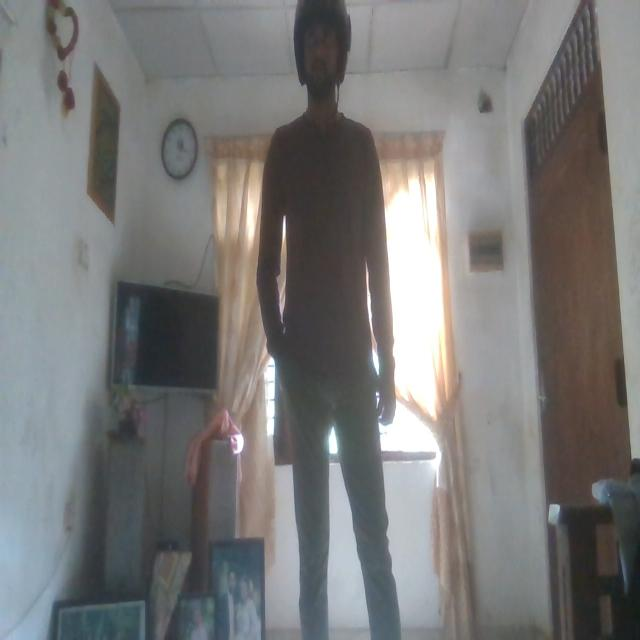Helmet_Wearer: (284, 0, 359, 98)
Person: (263, 4, 401, 640)
